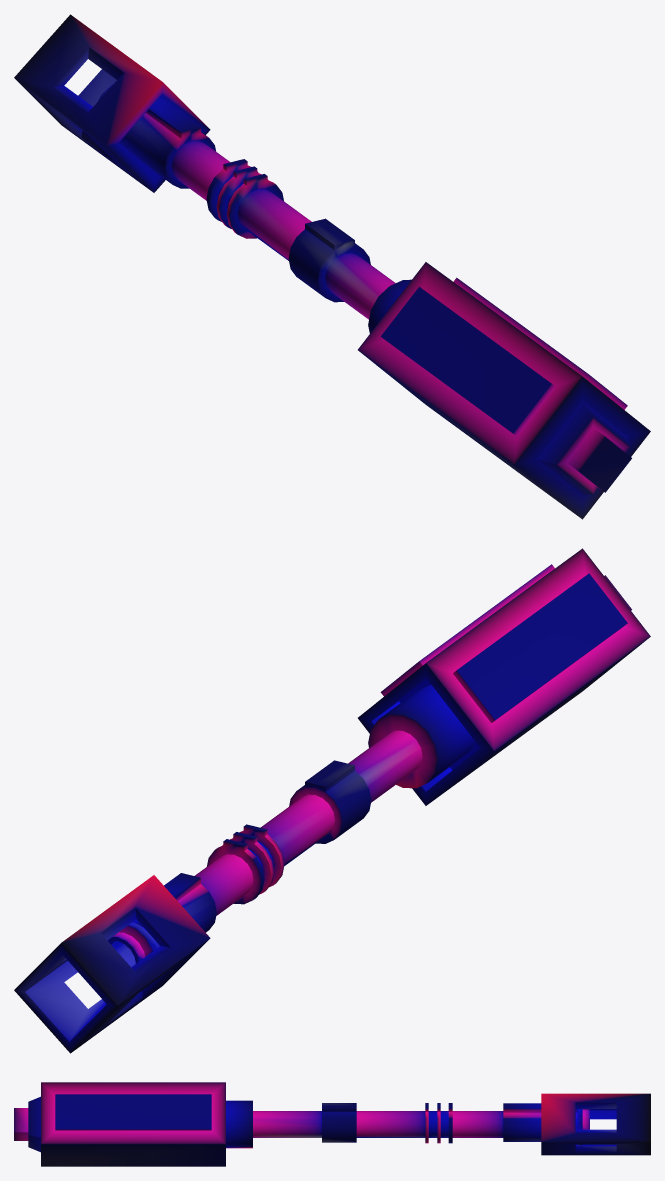
File: wpn_laser_cannon_02.fbx
The picture shows the model from 3 angles, top to bottom: view 1: azimuth 30°, elevation 25°; view 2: azimuth 150°, elevation 25°; view 3: azimuth 270°, elevation 25°; orthographic projection. The views are drawn at different scales.
Visible parts, largest first — view 1: wpn_laser_cannon_02; view 2: wpn_laser_cannon_02; view 3: wpn_laser_cannon_02.
Boxes of the visible parts, x1,y1,x2,y2 form: wpn_laser_cannon_02: (14, 14, 650, 519); wpn_laser_cannon_02: (14, 548, 650, 1053); wpn_laser_cannon_02: (14, 1082, 650, 1166).
Size of the model in its own units: 283 by 283 by 1933.
